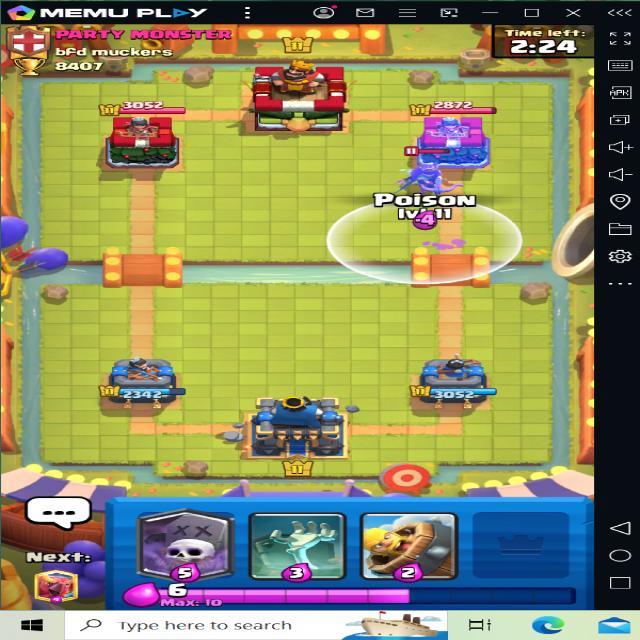archer-queen: (354, 143, 474, 208)
